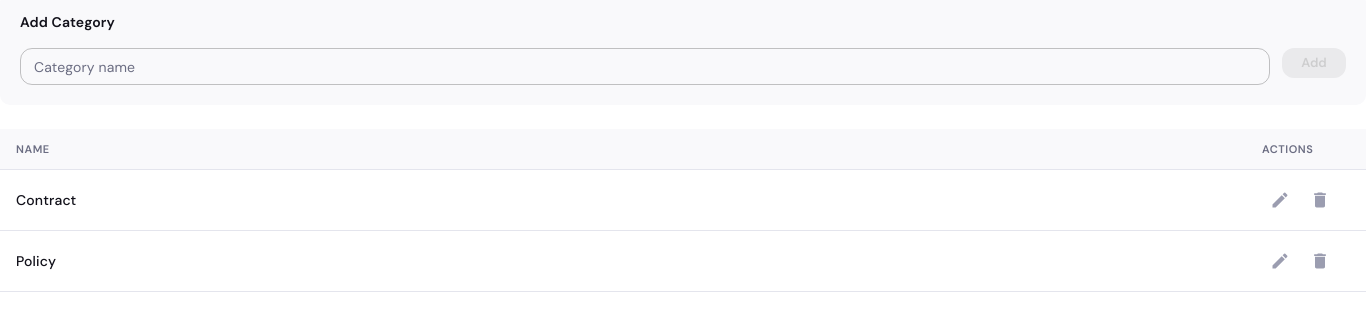
Test case: CategoryManager › enters edit mode when edit button is clicked
Click the button named "Edit Contract" at [1280, 200], box 1262,182 -> 1298,218
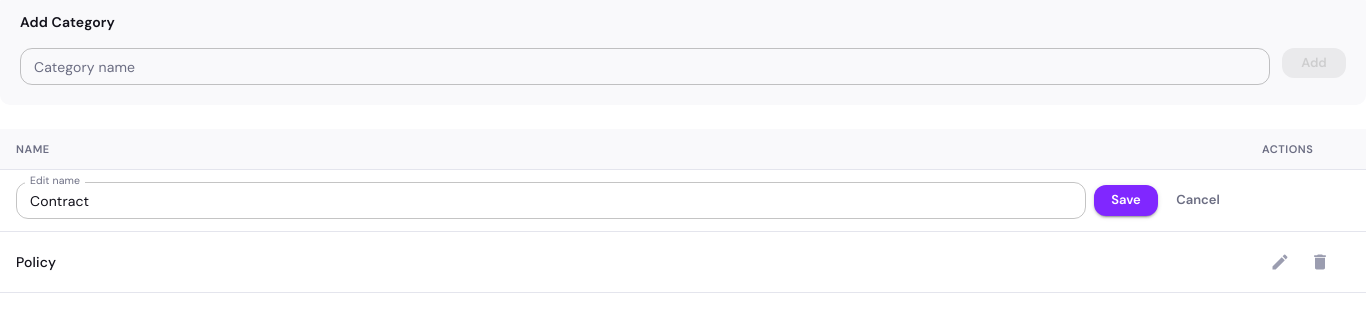
Expected: the field labelled "Edit name" holds "Contract", 16,182 -> 1086,219
